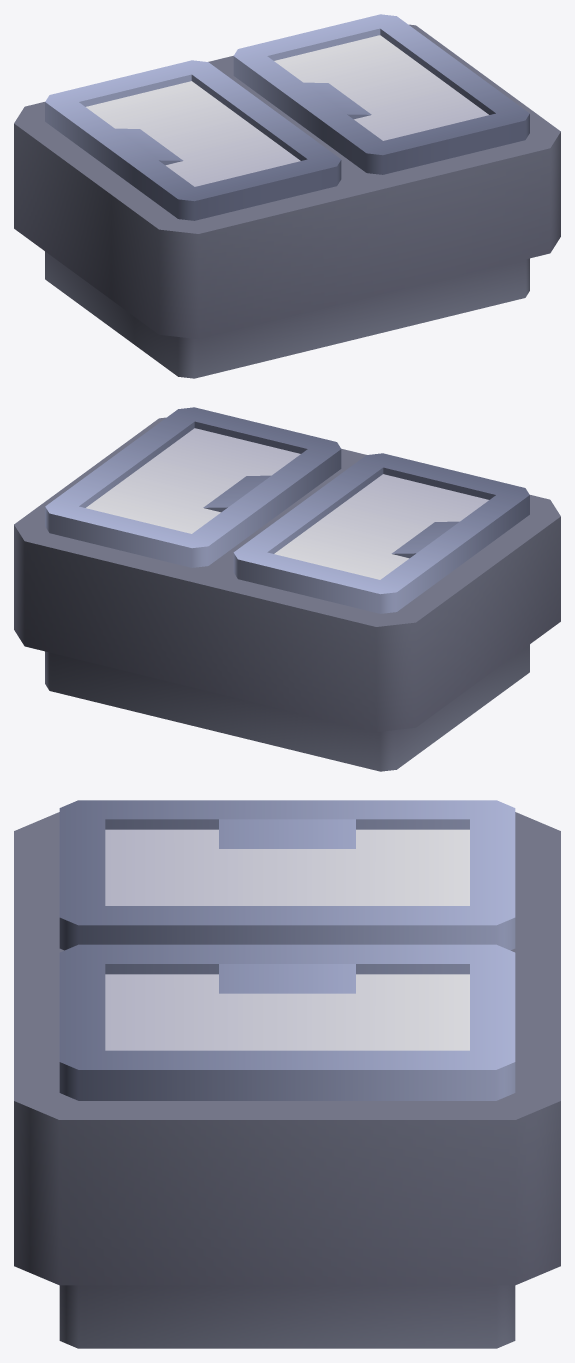
File: freezer.glb
The picture shows the model from 3 angles, top to bottom: view 1: azimuth 30°, elevation 25°; view 2: azimuth 150°, elevation 25°; view 3: azimuth 270°, elevation 25°; orthographic projection. The views are drawn at different scales.
Visible parts, largest first — view 1: freezer; view 2: freezer; view 3: freezer.
Part boxes in pixels (x1,y1,x2,y2): freezer: (14,14,560,378); freezer: (14,407,560,771); freezer: (14,800,560,1348).
Size of the model in its own units: 0.8 by 0.3375 by 0.6.
Materials: 1 (1 with a texture image).
